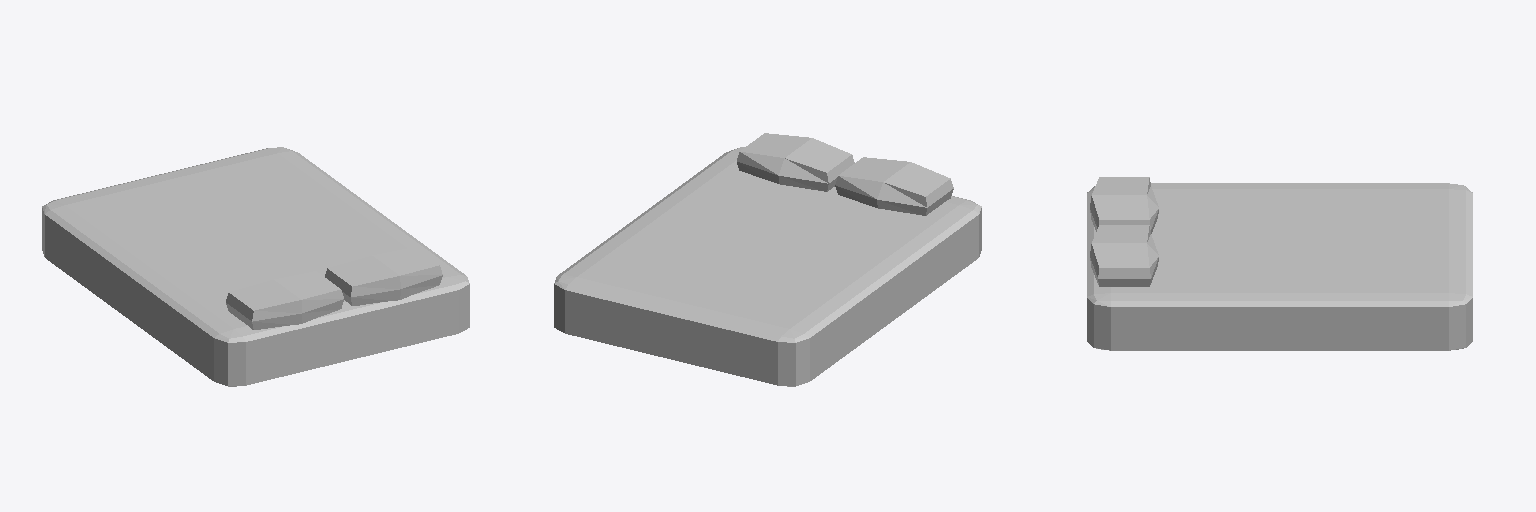
Rendered from Bed 2.obj.
3 renders of one model, left to right at view 1: azimuth 30°, elevation 25°; view 2: azimuth 150°, elevation 25°; view 3: azimuth 270°, elevation 25°, orthographic.
Parts seen in each view (by area): view 1: Bed_2; view 2: Bed_2; view 3: Bed_2.
Part boxes in pixels (left/top/right/bottom): Bed_2: left=42, top=147, right=469, bottom=386; Bed_2: left=554, top=133, right=981, bottom=386; Bed_2: left=1087, top=177, right=1472, bottom=350.
Size of the model in its own units: 1.69 by 0.4707 by 2.23.